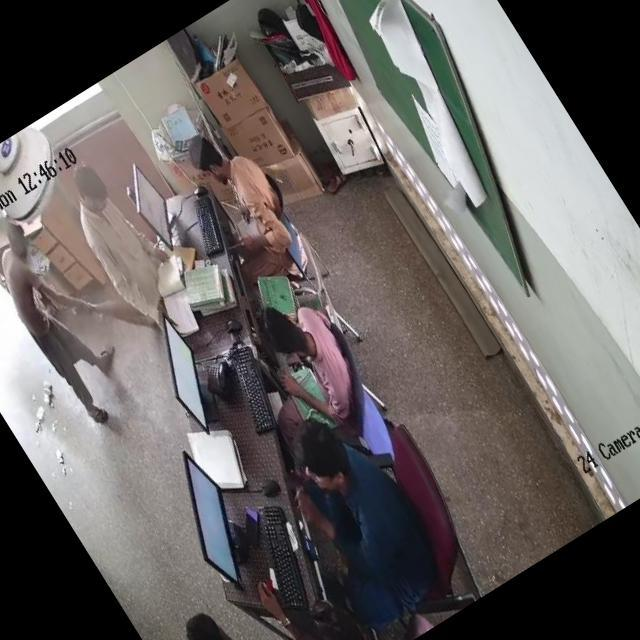person: (272, 392, 470, 632), (52, 146, 192, 328), (246, 281, 394, 453), (0, 223, 124, 421), (183, 119, 314, 282), (173, 579, 306, 640), (284, 579, 384, 640)
